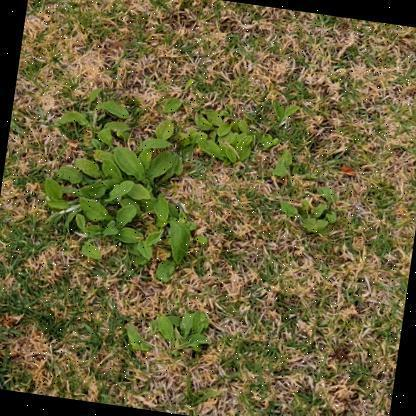Weeds: (33, 71, 299, 298), (263, 147, 346, 236), (125, 301, 214, 361)
